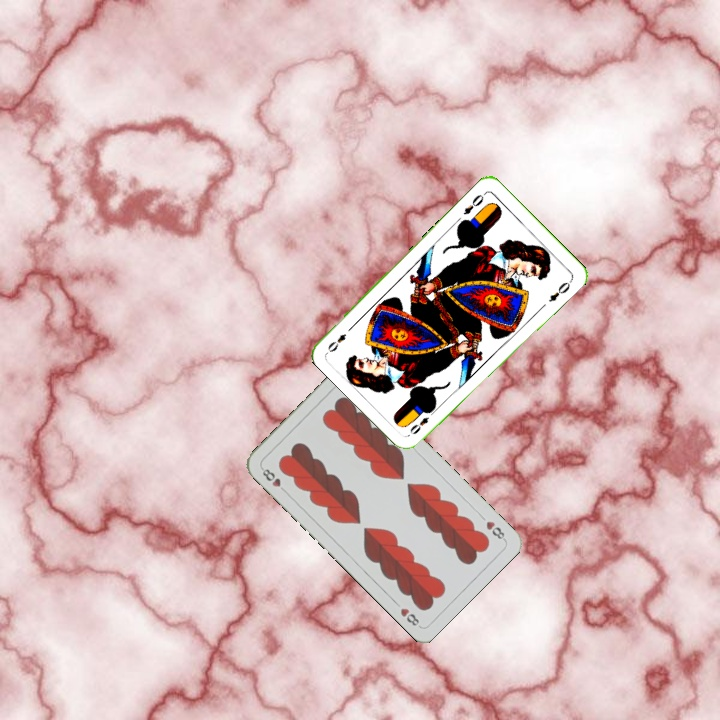EO: (405, 405, 439, 437), (459, 188, 488, 217)
H8: (257, 463, 289, 496), (482, 517, 508, 543)
